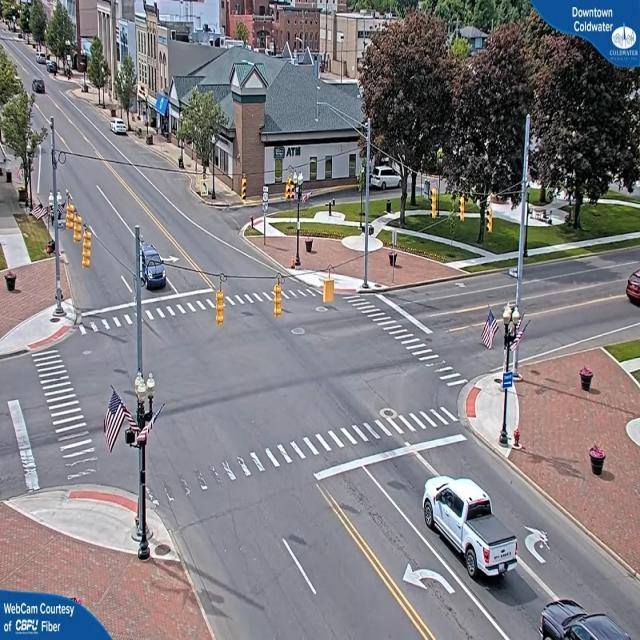car: (419, 476, 517, 586), (539, 601, 639, 639), (137, 241, 167, 290), (627, 264, 640, 307), (112, 121, 130, 138), (34, 80, 48, 96)
